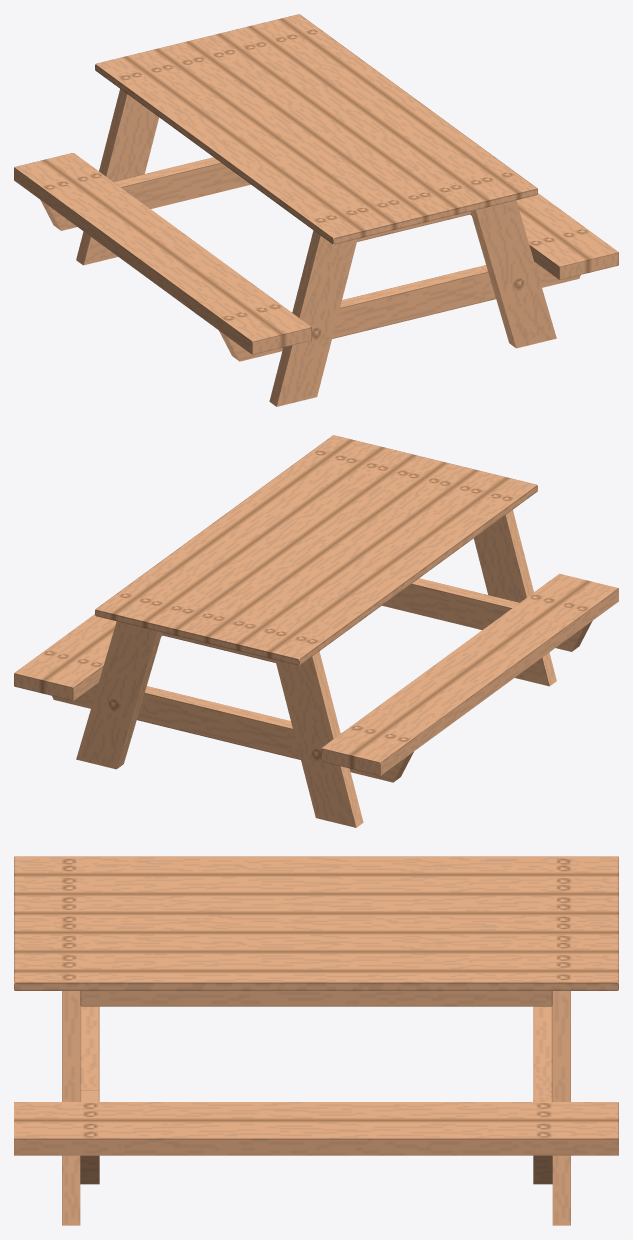
Rendered from PicnicTable.fbx.
3 renders of one model, top to bottom at view 1: azimuth 30°, elevation 25°; view 2: azimuth 150°, elevation 25°; view 3: azimuth 270°, elevation 25°, orthographic. The views are drawn at different scales.
Parts seen in each view (by area): view 1: PicnicTable; view 2: PicnicTable; view 3: PicnicTable.
Boxes of the visible parts, x1,y1,x2,y2 form: PicnicTable: [14, 14, 618, 406]; PicnicTable: [14, 435, 618, 827]; PicnicTable: [14, 856, 618, 1225].
Size of the model in its own units: 514 by 232 by 580.
Materials: 1 (1 with a texture image).
